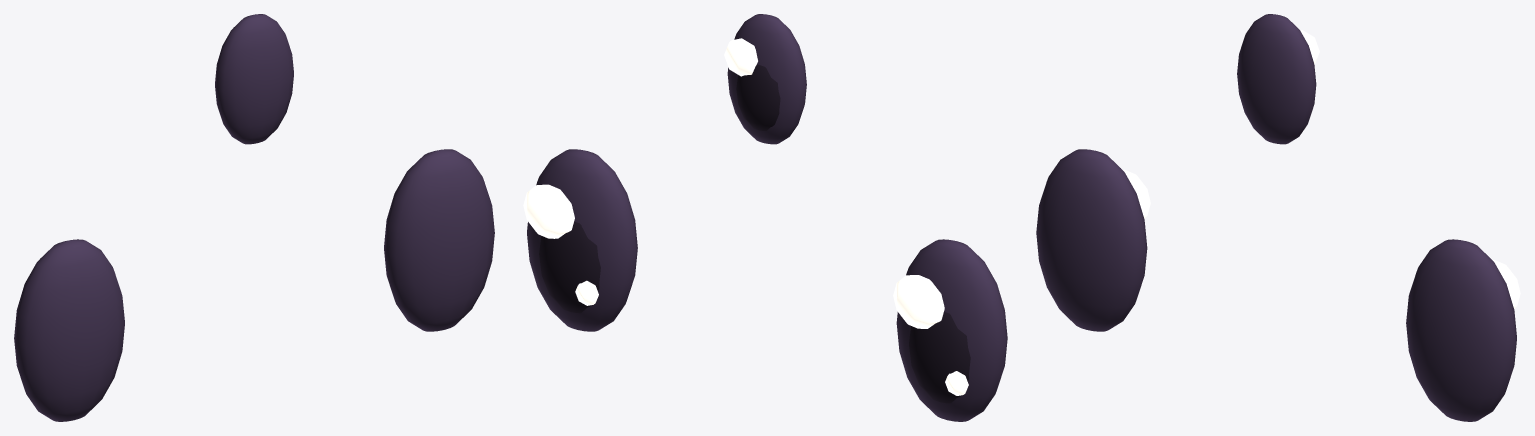
File: Eyes_Three.fbx
The picture shows the model from 3 angles, left to right: view 1: azimuth 30°, elevation 25°; view 2: azimuth 150°, elevation 25°; view 3: azimuth 330°, elevation 25°; orthographic projection.
Visible parts, largest first — view 1: Eye, Eye.001, Eye.002; view 2: Eye.001, Eye, Eye.002, Eye_Pupil, Eye_Pupil.001, Eye_Pupil.002, Eye_Sparkle, Eye_Sparkle.002, Eye_Sparkle.004, Eye_Sparkle.001, Eye_Sparkle.003; view 3: Eye, Eye.001, Eye.002, Eye_Sparkle, Eye_Sparkle.002.
Boxes of the visible parts, box(x1,y1,x2,y2) form: Eye: box(384, 149, 494, 331); Eye.001: box(14, 239, 124, 421); Eye.002: box(215, 14, 293, 144); Eye.001: box(896, 239, 1007, 421); Eye: box(527, 149, 637, 331); Eye.002: box(727, 14, 806, 144); Eye_Pupil: box(539, 221, 600, 313); Eye_Pupil.001: box(909, 312, 970, 403); Eye_Pupil.002: box(736, 64, 780, 130); Eye_Sparkle: box(523, 184, 574, 238); Eye_Sparkle.002: box(893, 275, 944, 328); Eye_Sparkle.004: box(724, 38, 757, 76); Eye_Sparkle.001: box(575, 280, 598, 305); Eye_Sparkle.003: box(945, 371, 968, 395); Eye: box(1406, 239, 1516, 421); Eye.001: box(1036, 149, 1147, 331); Eye.002: box(1237, 14, 1316, 144); Eye_Sparkle: box(1492, 260, 1520, 308); Eye_Sparkle.002: box(1123, 169, 1150, 218).
Size of the model in its own units: 38.68 by 28 by 5.18.
